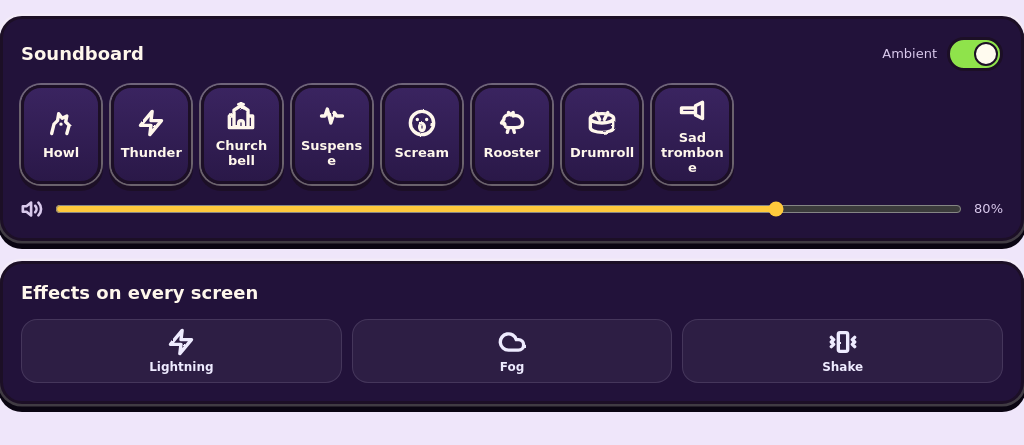
NarratorSoundboard › explains a rejected cue
Click the button with class "tile" showing "Scream".
click(422, 134)  # box [382,85,462,184]
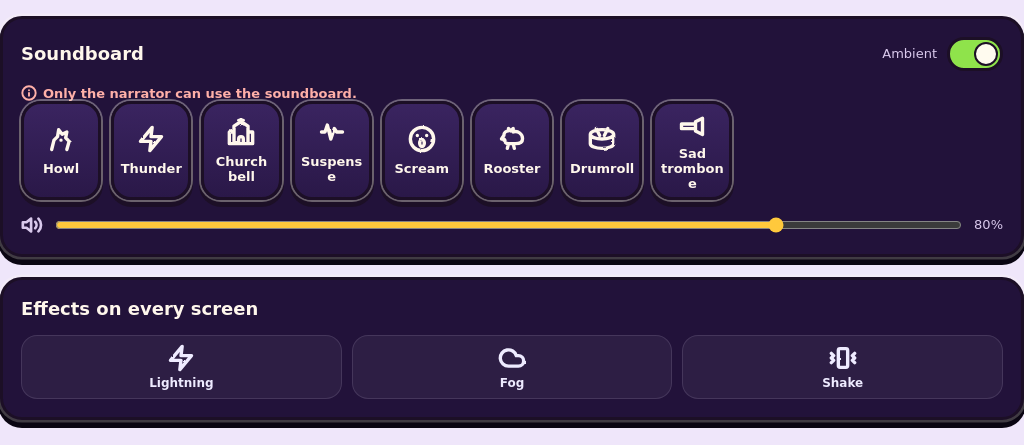
expect the message "Only the narrator can use the soundboard." is shown: met, box [21,85,357,101]
